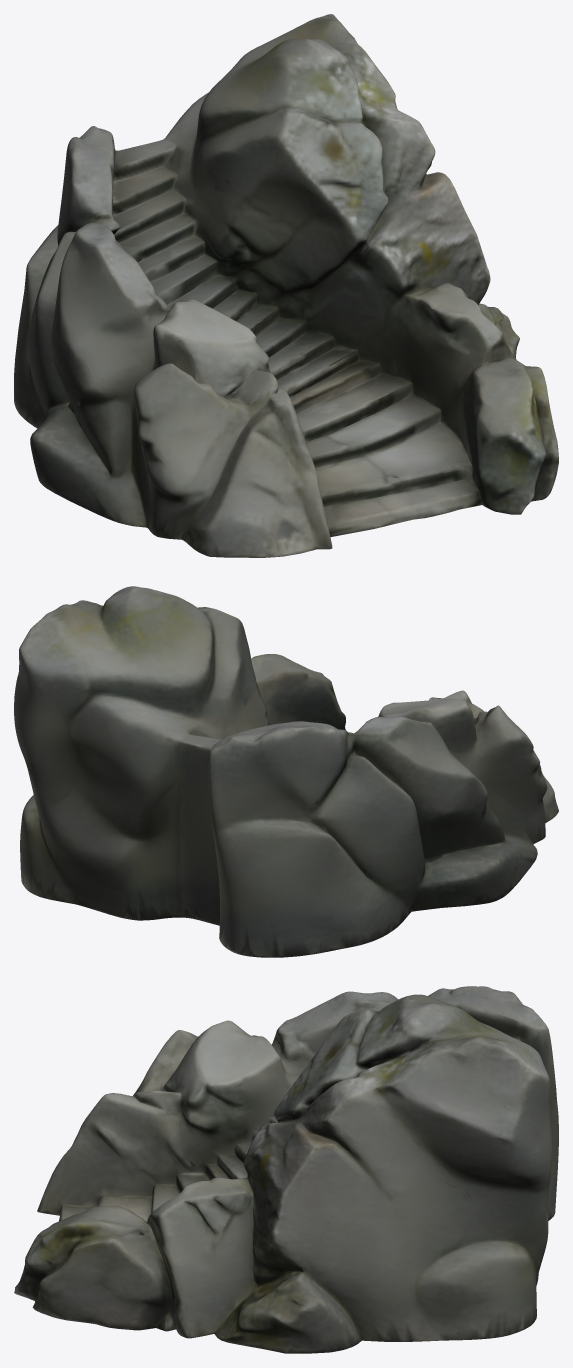
Rendered from stairs.glb.
The picture shows the model from 3 angles, top to bottom: view 1: azimuth 30°, elevation 25°; view 2: azimuth 150°, elevation 25°; view 3: azimuth 270°, elevation 25°; orthographic projection. The views are drawn at different scales.
Parts seen in each view (by area): view 1: material; view 2: material; view 3: material.
Boxes of the visible parts, x1,y1,x2,y2 form: material: [14, 14, 558, 557]; material: [14, 586, 558, 957]; material: [14, 986, 558, 1353].
Bounding box in the file's own units: 0.8981 × 0.5639 × 0.9479.
1 material, 1 textured.
